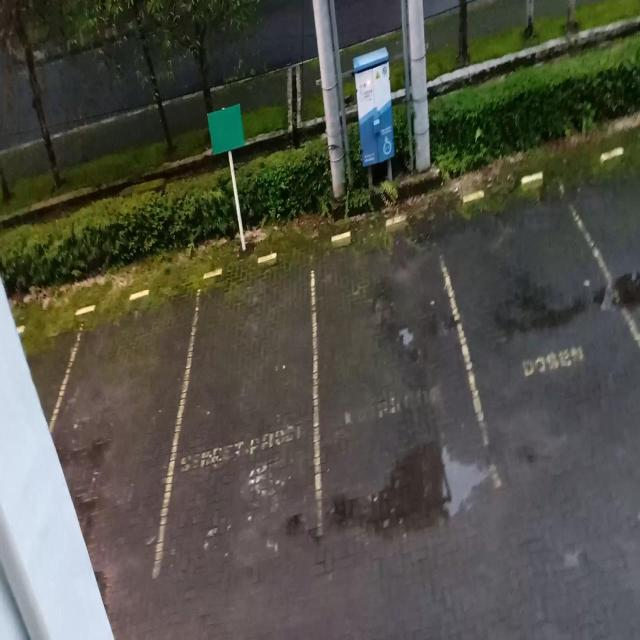empty: (460, 166, 612, 484), (310, 212, 460, 530), (182, 256, 322, 534), (72, 283, 188, 571)
